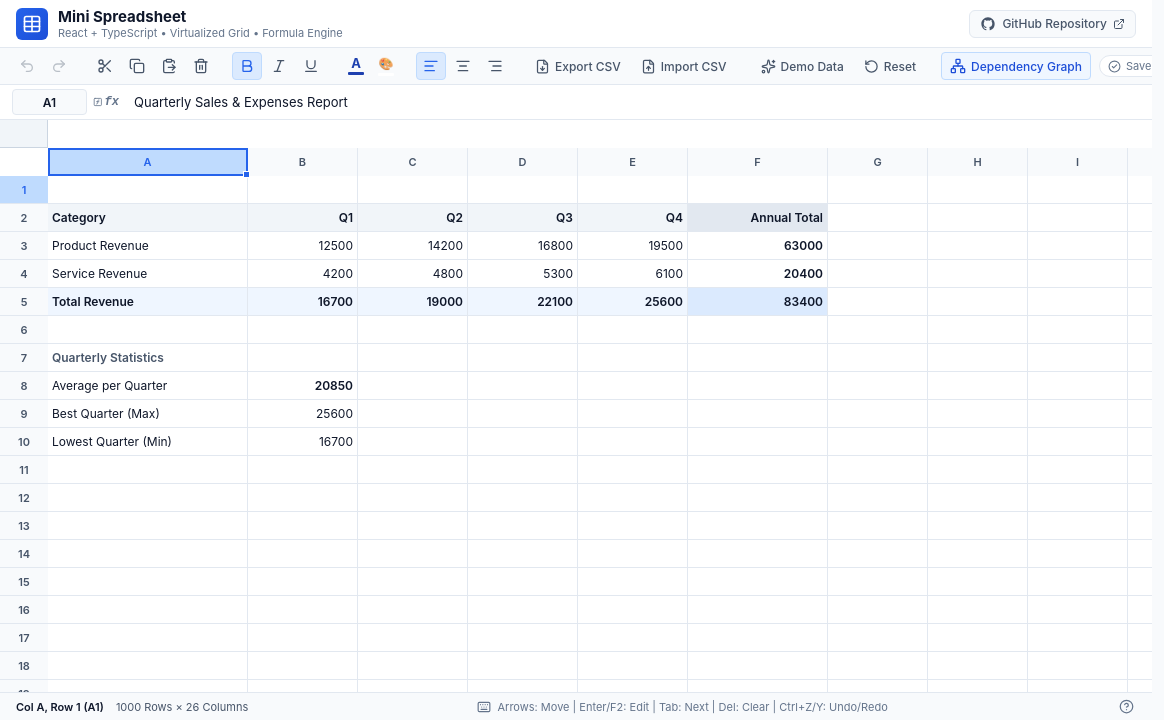
it: Recruiter Comprehensive End-to-End Evaluation › 3. Formula Recalculation: Updates downstream dependencies automatically
Double-click the text "12500" at (336, 246), box [318,238,353,253]
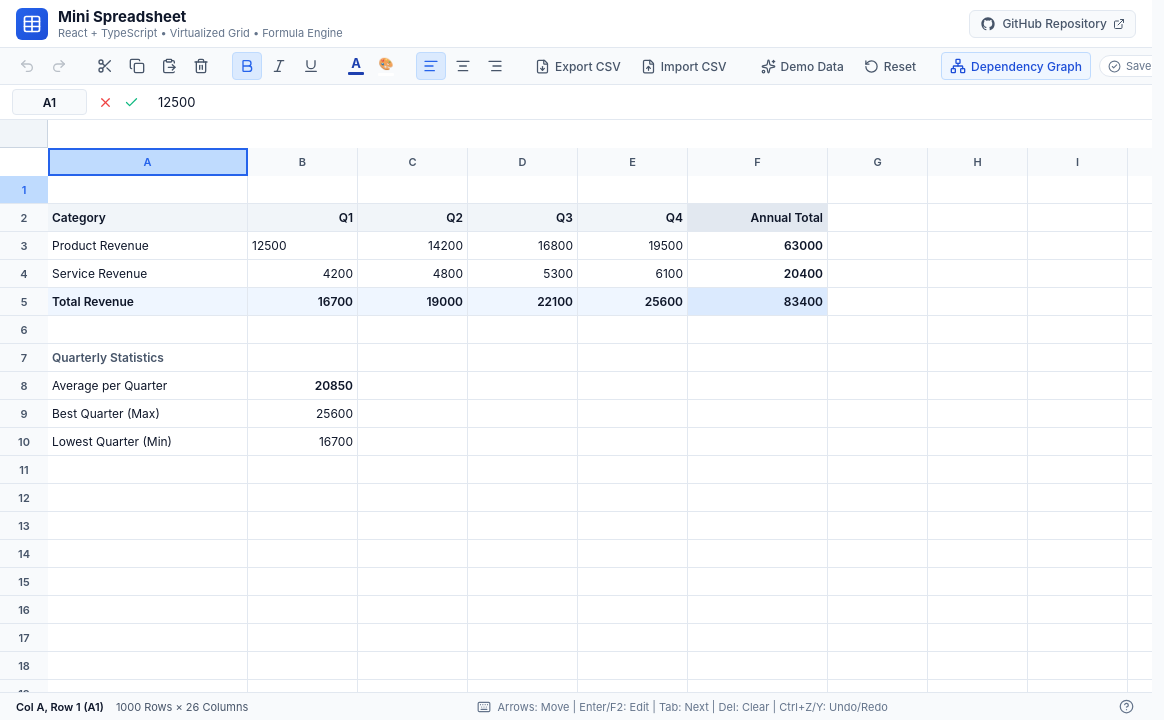
Replace the text in the field named "Editing cell B4" with "20000" at (302, 246), box [252,232,353,259]
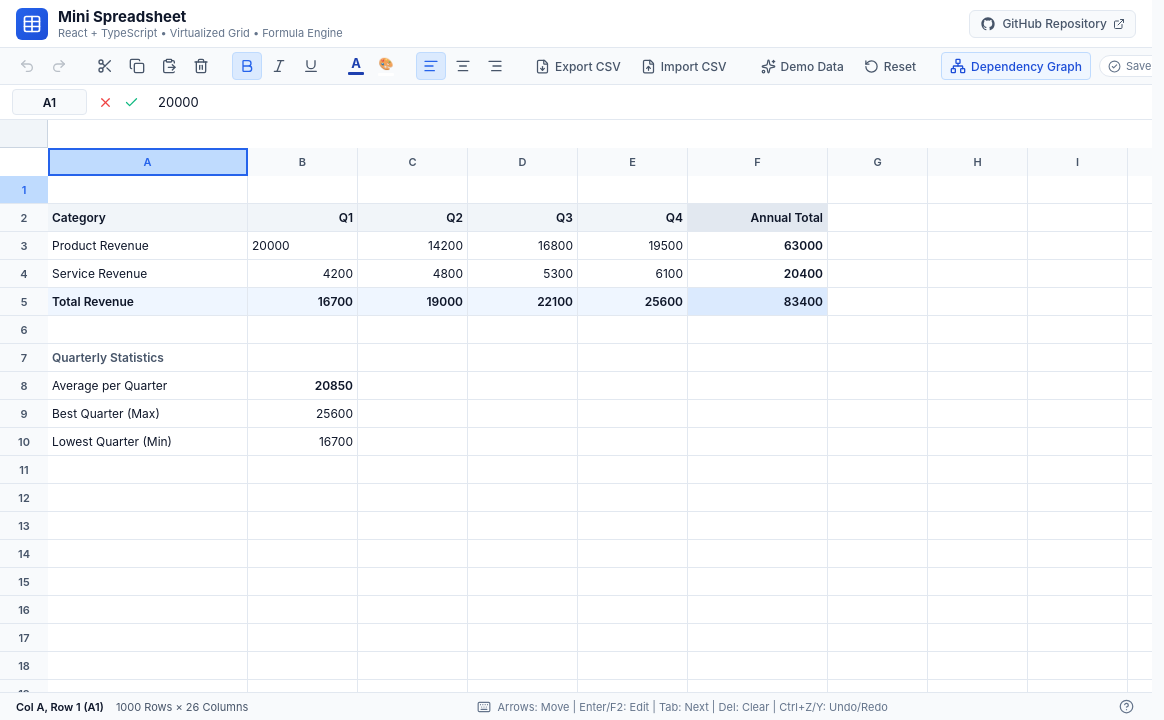
Press Enter in the field named "Editing cell B4", box [252,232,353,259]
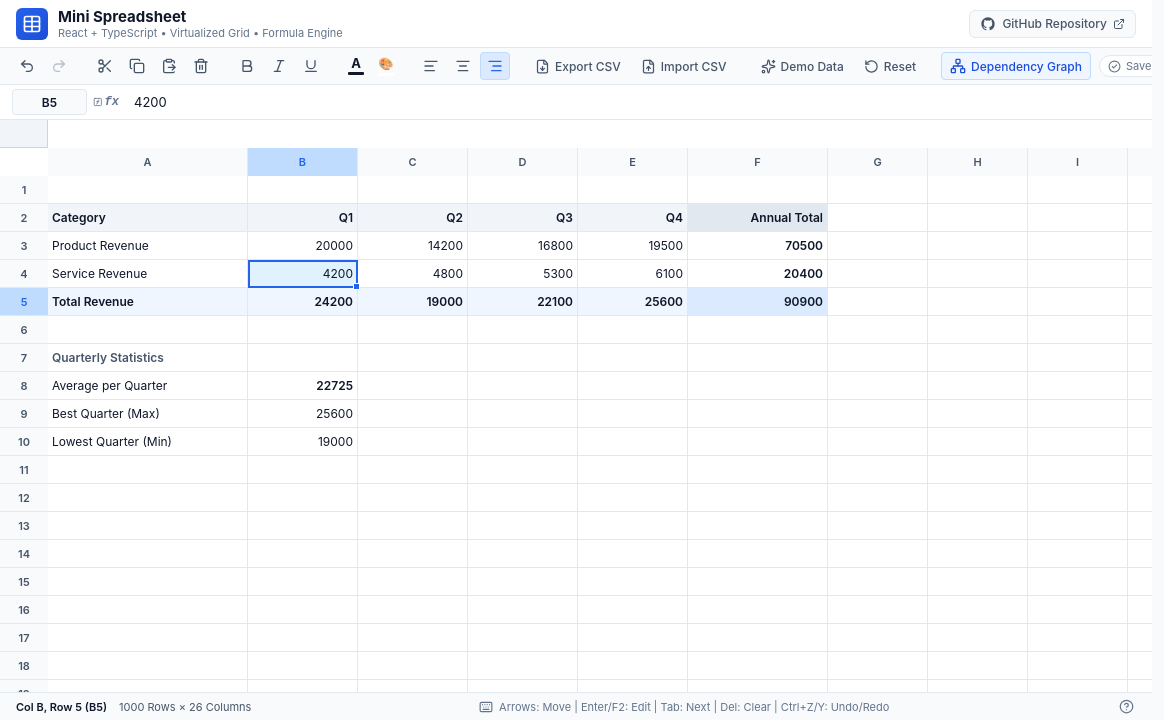
Expected: the text "20000" is shown, [315,238,353,253]
Expected: the text "70500" is shown, [785,238,823,253]
